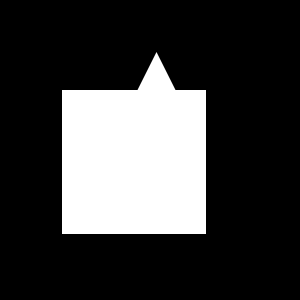circle: (62, 90, 206, 234)
triangle: (103, 133, 169, 199), (130, 52, 183, 105)
